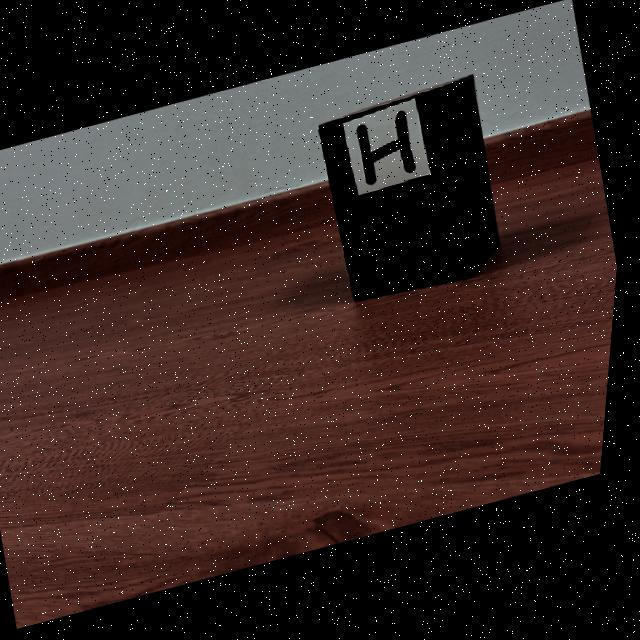H: (359, 113, 418, 186)
